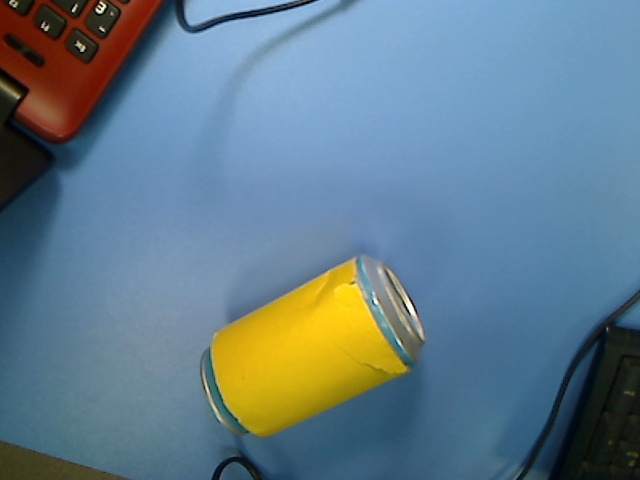can: (196, 252, 429, 441)
